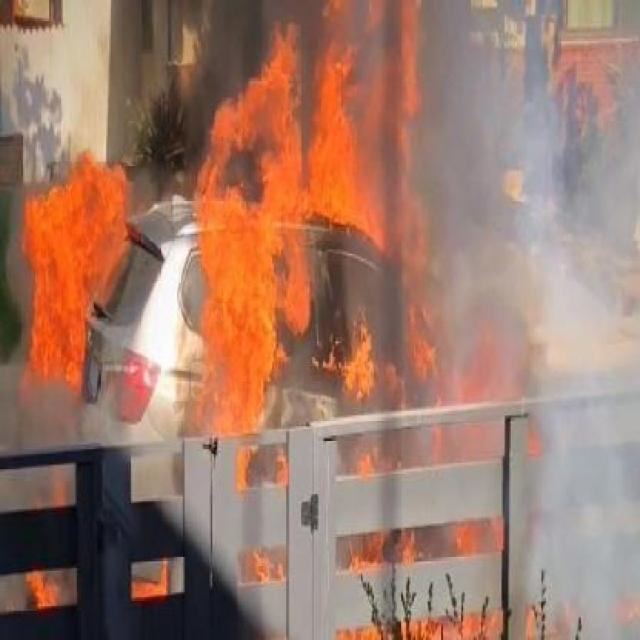Fire: (190, 27, 502, 637), (0, 149, 129, 423), (22, 573, 72, 609)
Smoke: (524, 43, 632, 626), (135, 568, 173, 600)
